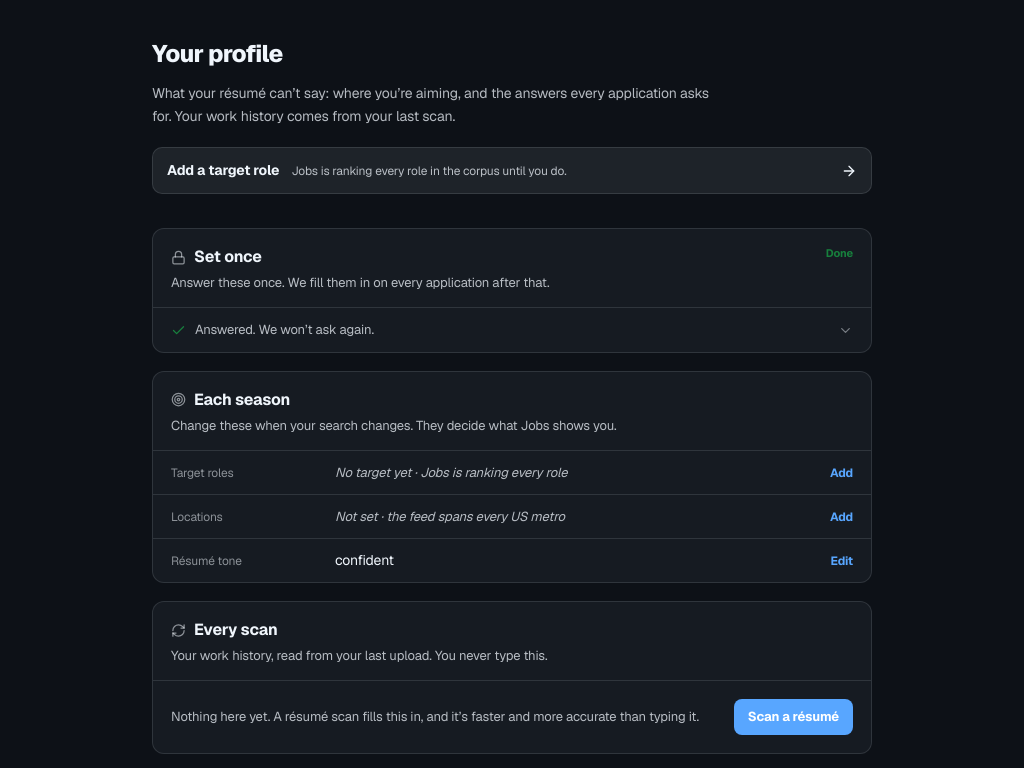
Scenario: the Set-once band seals from the DATA, not from mount › reopens on click and stays open
Click the button "Answered. We won’t ask again." at point(284, 330), box [153,308,871,352]
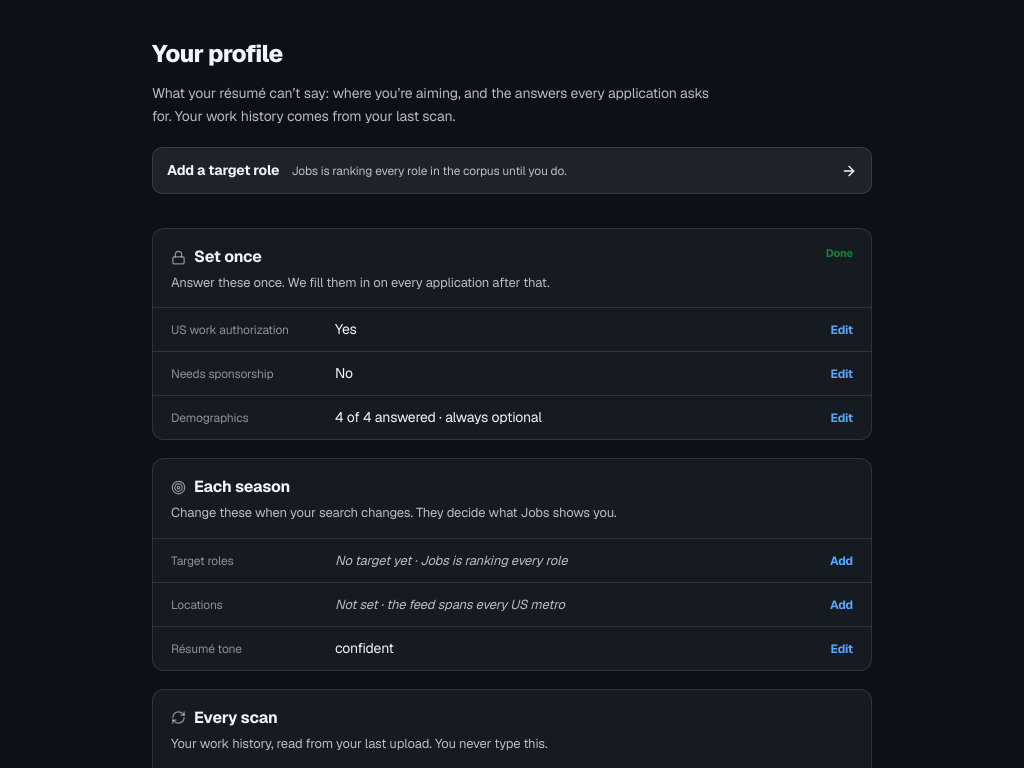
Result: the button "We won.t ask again" is gone
Result: the text "US work authorization" is shown at [171,322,289,338]
